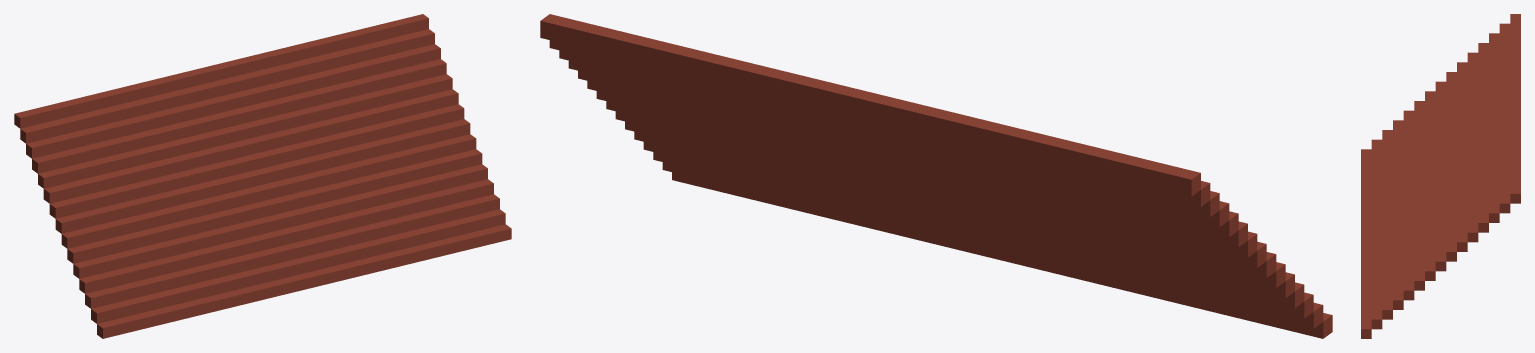
Rendered from ConstructionMaterials-31.obj.
3 views of the same model, side by side, from view 1: azimuth 30°, elevation 25°; view 2: azimuth 150°, elevation 25°; view 3: azimuth 270°, elevation 25° (orthographic). The views are drawn at different scales.
Bounding box in the file's own units: 4 × 1.5 × 1.5.
Materials: 1 (1 with a texture image).
